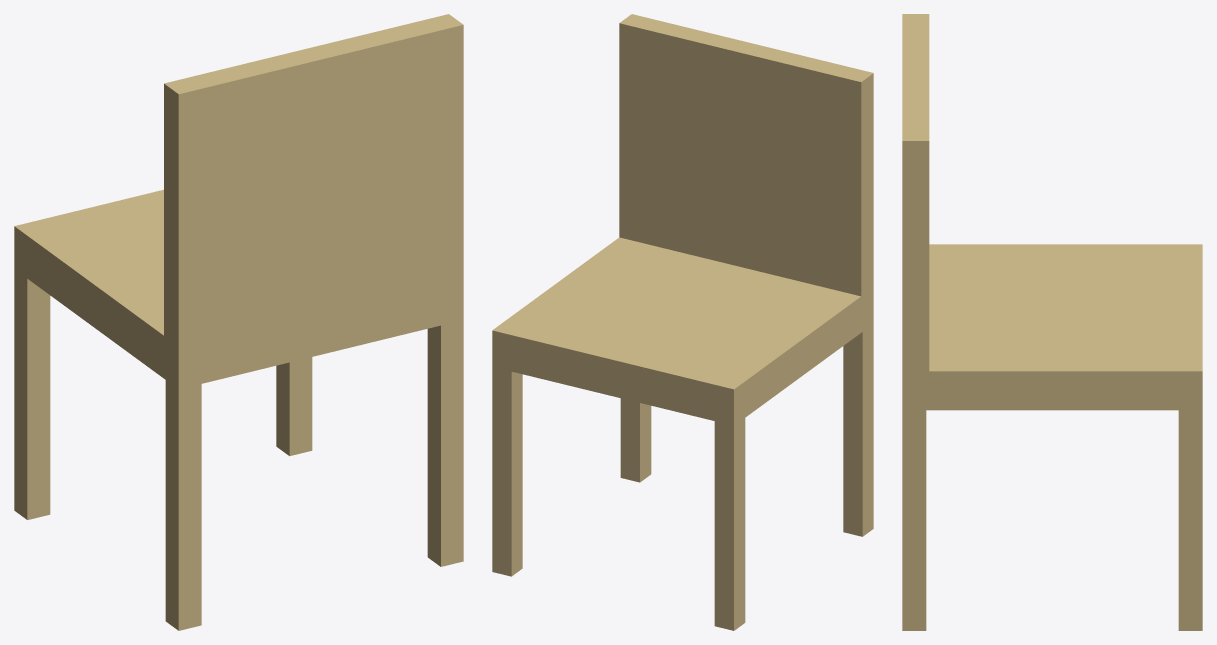
File: chair-1.glb
3 views of the same model, side by side, from view 1: azimuth 30°, elevation 25°; view 2: azimuth 150°, elevation 25°; view 3: azimuth 270°, elevation 25° (orthographic). The views are drawn at different scales.
Visible parts, largest first — view 1: chair_chair; view 2: chair_chair; view 3: chair_chair.
Boxes of the visible parts, <box> form: chair_chair: <box>14,14,463,630</box>; chair_chair: <box>492,14,873,630</box>; chair_chair: <box>902,14,1202,630</box>.
Bounding box in the file's own units: 0.5 × 0.9 × 0.5.
